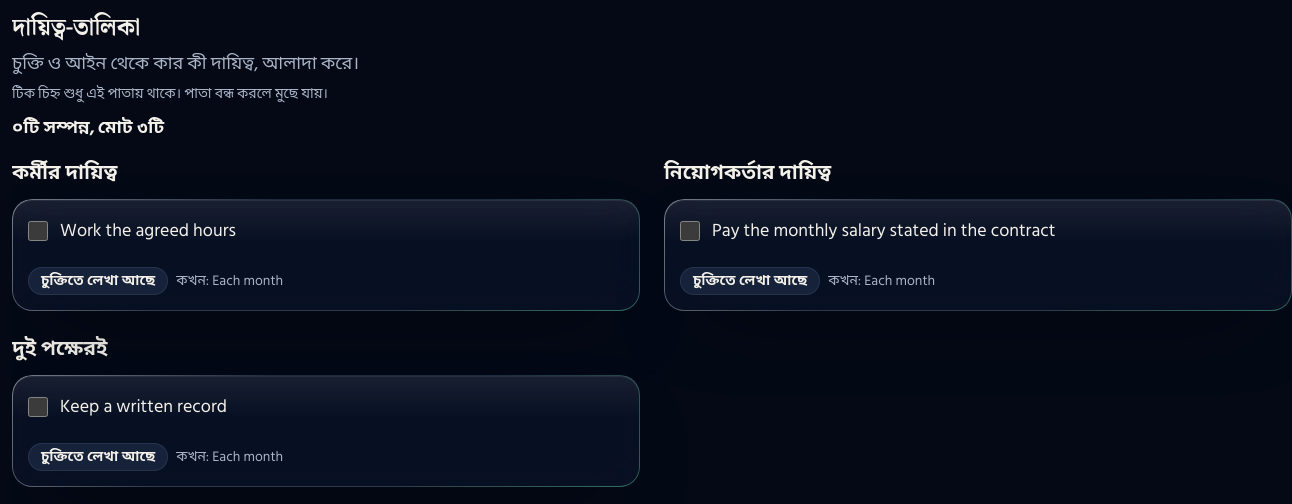
Test: DutiesView › FR-71 R-02 ticks items, counts them, and stores nothing
The width and height of the screenshot is (1292, 504).
Click the checkbox labelled "Work the agreed hours": (38,231) [28,221,48,241]
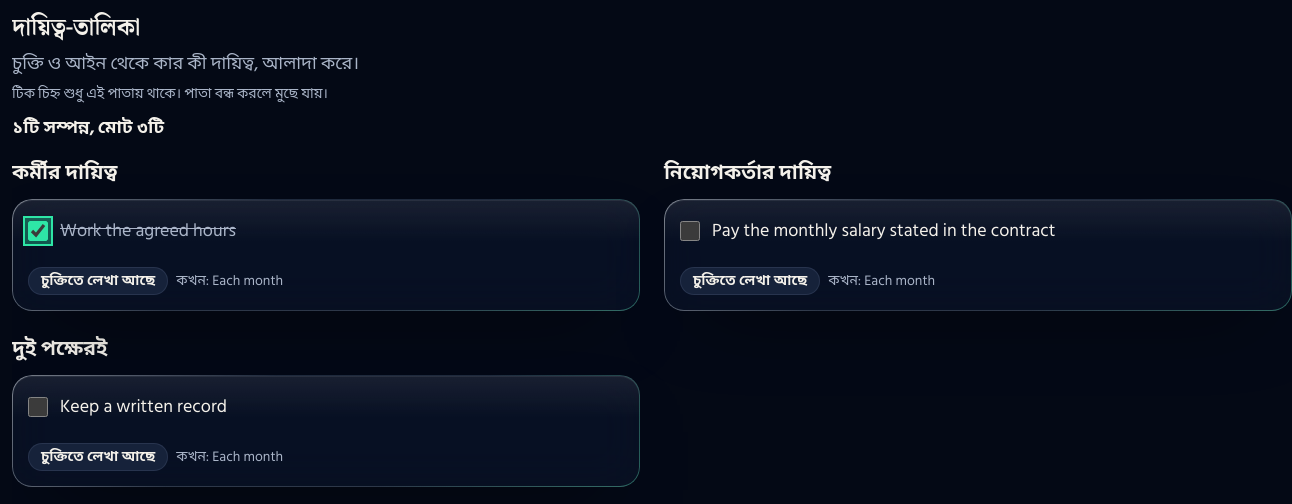
expect the checkbox labelled "Work the agreed hours" is checked: met, box [28,221,48,241]
expect the message reads "১টি সম্পন্ন, মোট ৩টি": met, box [12,112,164,142]
